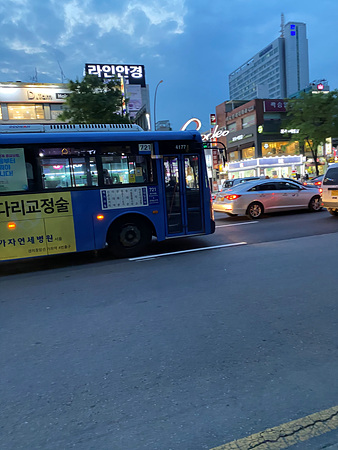entrance: (158, 146, 209, 234)
